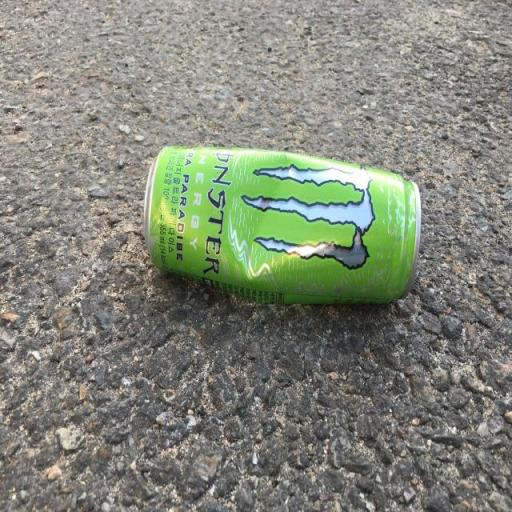metal: (118, 81, 448, 348)
